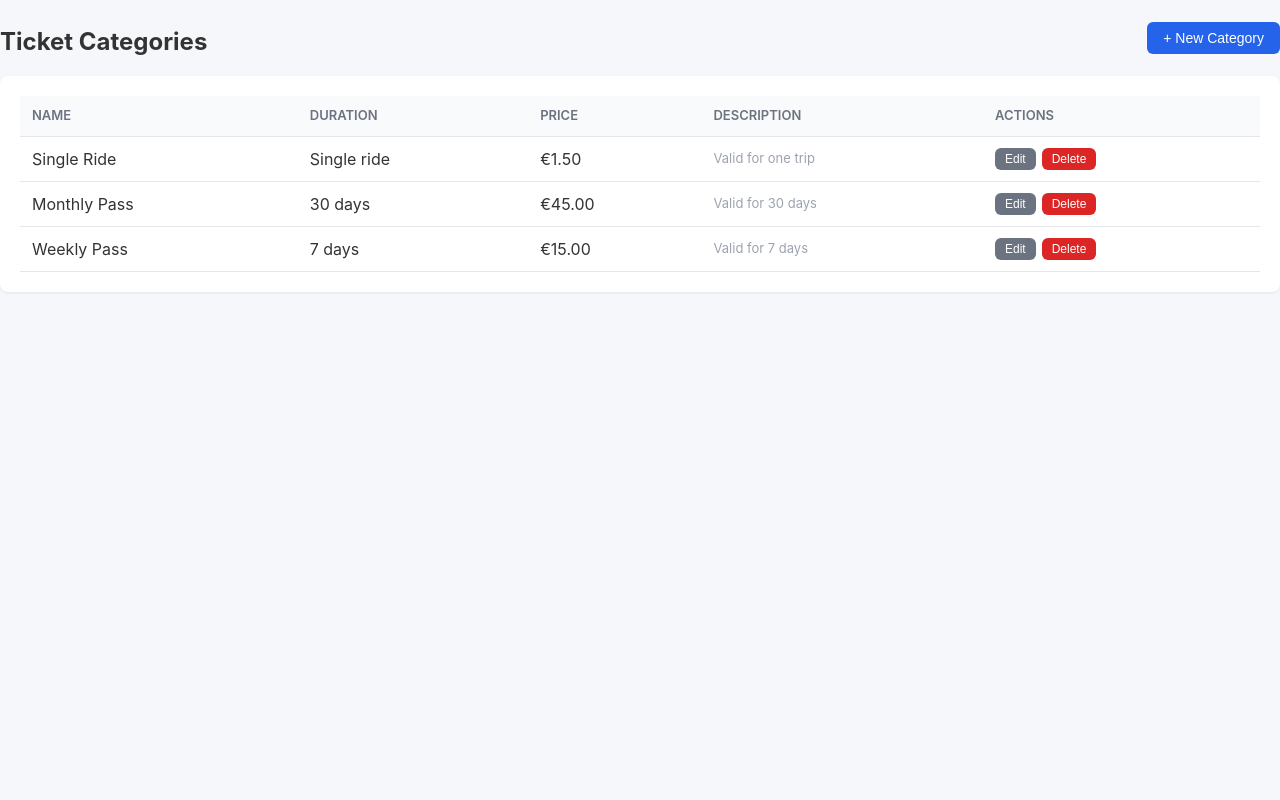
Test: TicketCategories Page › opens create modal
Click the button "+ New Category": click(1214, 38) [1147,22,1279,54]
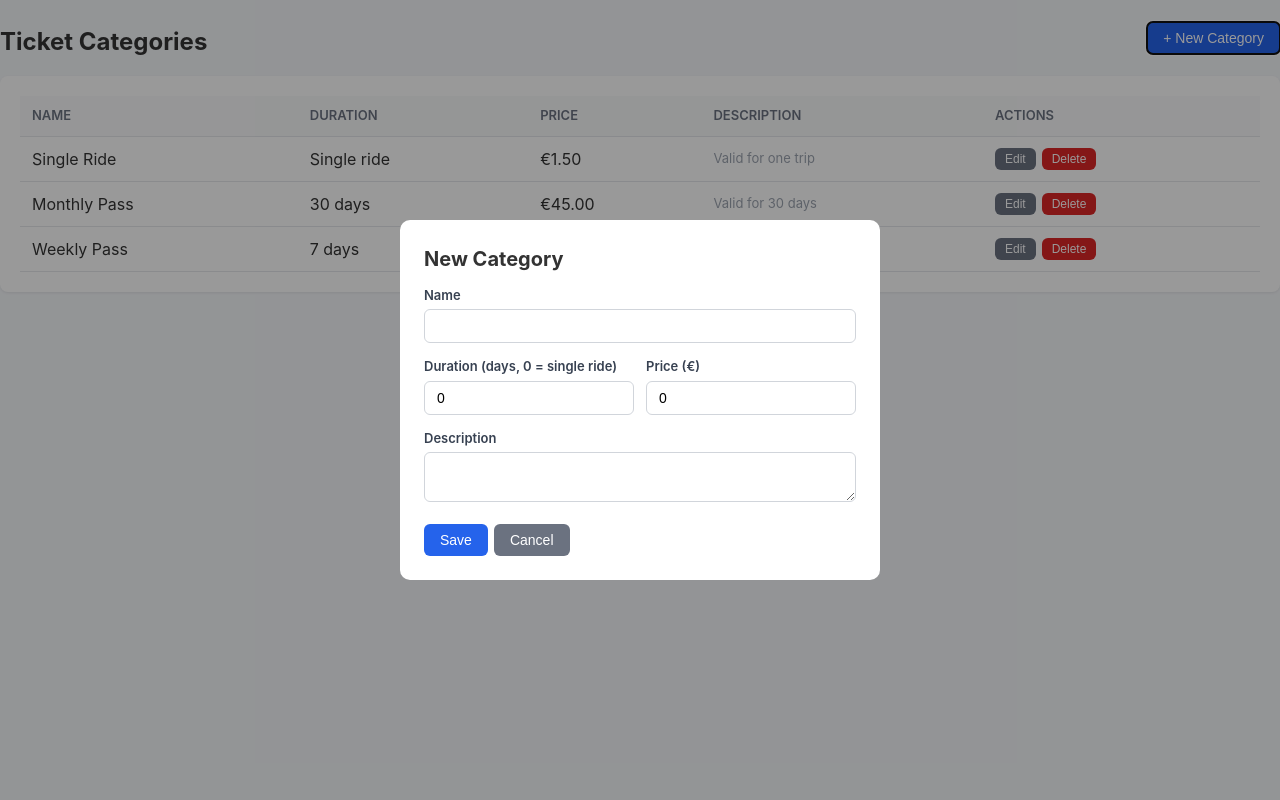
Check: the heading "New Category" is shown, box [424,247,564,271]
